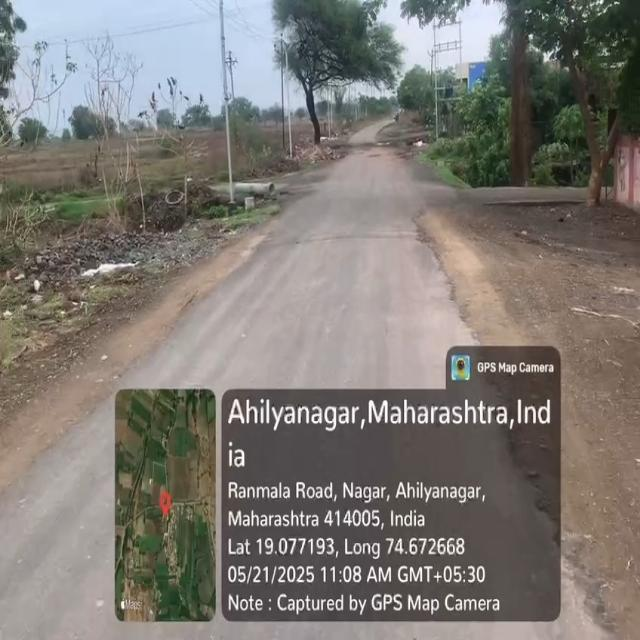speed breaker: (264, 227, 442, 255)
